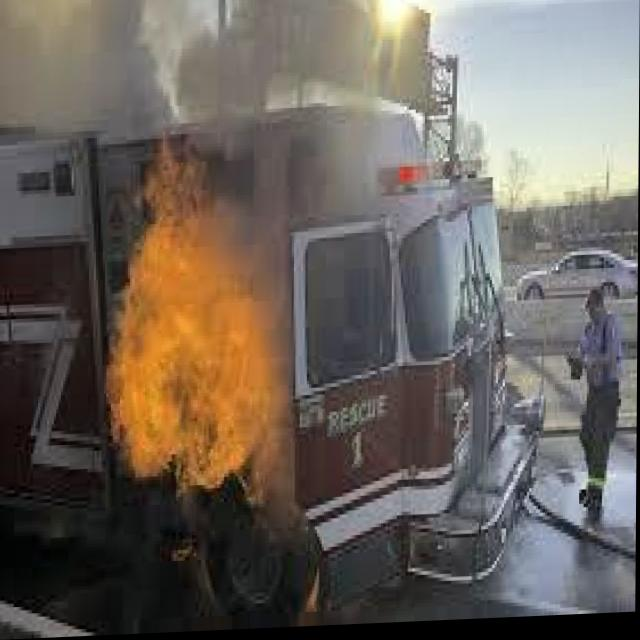fire: (93, 159, 318, 505)
